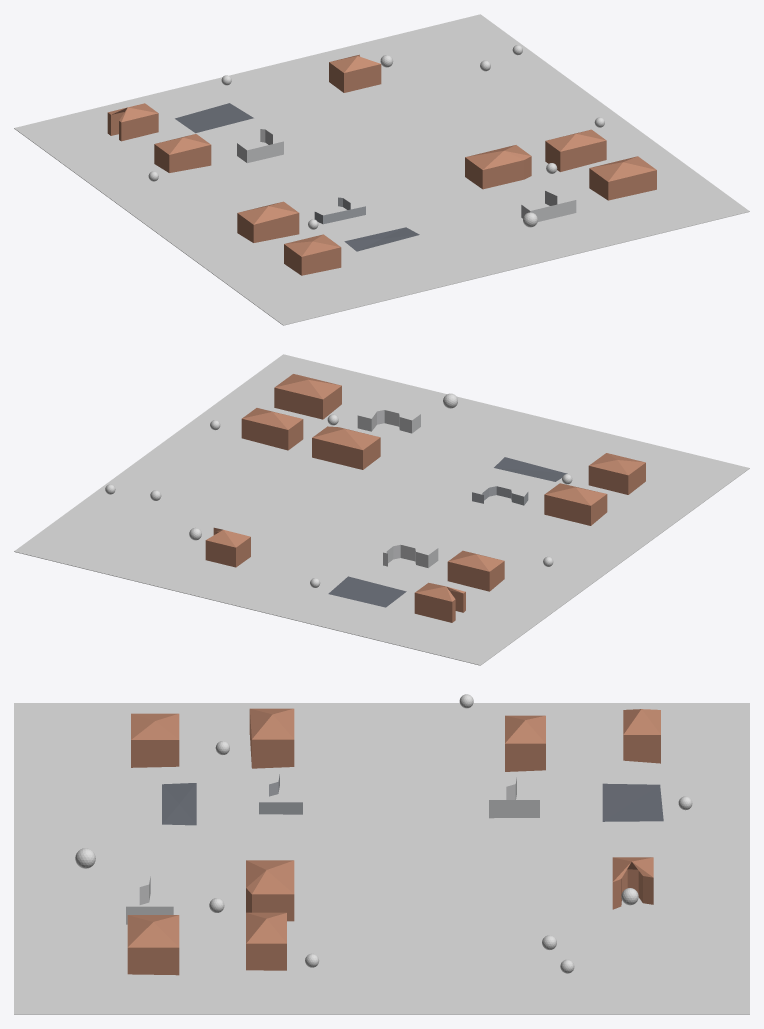
3 renders of one model, top to bottom at view 1: azimuth 30°, elevation 25°; view 2: azimuth 150°, elevation 25°; view 3: azimuth 270°, elevation 25°, orthographic. The views are drawn at different scales.
Visible parts, largest first — view 1: Ground_Base, B010, B007, Road_Corridors, B006, B008, B009, B003, B002, B001, B004, B011 (+1 smaller); view 2: Ground_Base, B010, B007, Road_Corridors, B006, B008, B009, B003, B001, B002, B011, B004 (+1 smaller); view 3: Ground_Base, Road_Corridors, B010, B006, B009, B007, B008, B003, B001, B002, B004, B005 (+1 smaller).
Boxes of the visible parts, x1=… form: Ground_Base: x1=14, y1=14, x2=749, y2=325; B010: x1=589, y1=156, x2=656, y2=200; B007: x1=465, y1=145, x2=531, y2=189; Road_Corridors: x1=175, y1=103, x2=419, y2=251; B006: x1=237, y1=201, x2=299, y2=242; B008: x1=545, y1=129, x2=606, y2=171; B009: x1=284, y1=234, x2=341, y2=275; B003: x1=154, y1=134, x2=211, y2=172; B002: x1=329, y1=54, x2=381, y2=92; B001: x1=107, y1=103, x2=158, y2=141; B004: x1=237, y1=129, x2=283, y2=163; B011: x1=521, y1=191, x2=576, y2=221; Ground_Base: x1=14, y1=354, x2=749, y2=665; B010: x1=274, y1=374, x2=341, y2=419; B007: x1=312, y1=426, x2=380, y2=469; Road_Corridors: x1=328, y1=457, x2=567, y2=607; B006: x1=544, y1=483, x2=607, y2=525; B008: x1=241, y1=408, x2=303, y2=450; B009: x1=588, y1=453, x2=645, y2=494; B003: x1=447, y1=550, x2=504, y2=591; B001: x1=414, y1=582, x2=465, y2=622; B002: x1=205, y1=527, x2=250, y2=567; B011: x1=357, y1=410, x2=420, y2=433; B004: x1=383, y1=544, x2=438, y2=567; Ground_Base: x1=14, y1=703, x2=749, y2=1014; Road_Corridors: x1=162, y1=783, x2=663, y2=825; B010: x1=127, y1=915, x2=179, y2=975; B006: x1=249, y1=708, x2=294, y2=768; B009: x1=131, y1=713, x2=179, y2=767; B007: x1=246, y1=860, x2=294, y2=921; B008: x1=246, y1=912, x2=286, y2=970; B003: x1=505, y1=715, x2=545, y2=771; B001: x1=623, y1=709, x2=660, y2=763; B002: x1=612, y1=857, x2=653, y2=909; B004: x1=489, y1=777, x2=539, y2=818; B005: x1=259, y1=774, x2=302, y2=814.
Size of the model in its own units: 410 by 26.98 by 410.
